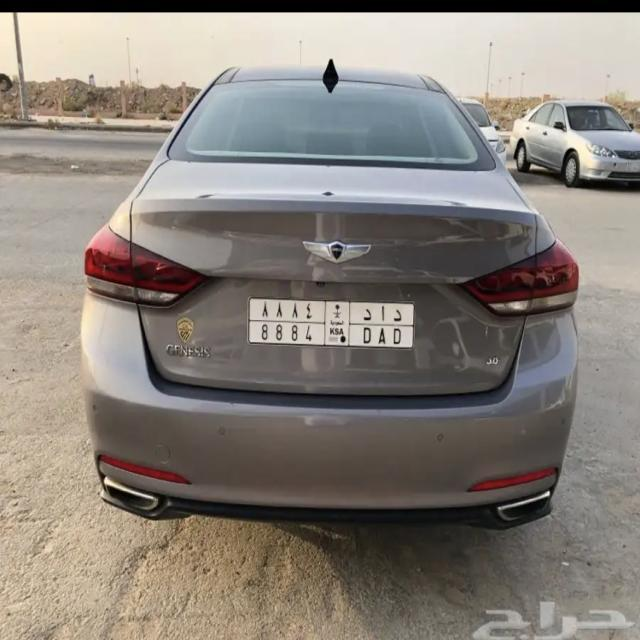license_plate: (248, 296, 418, 356)
